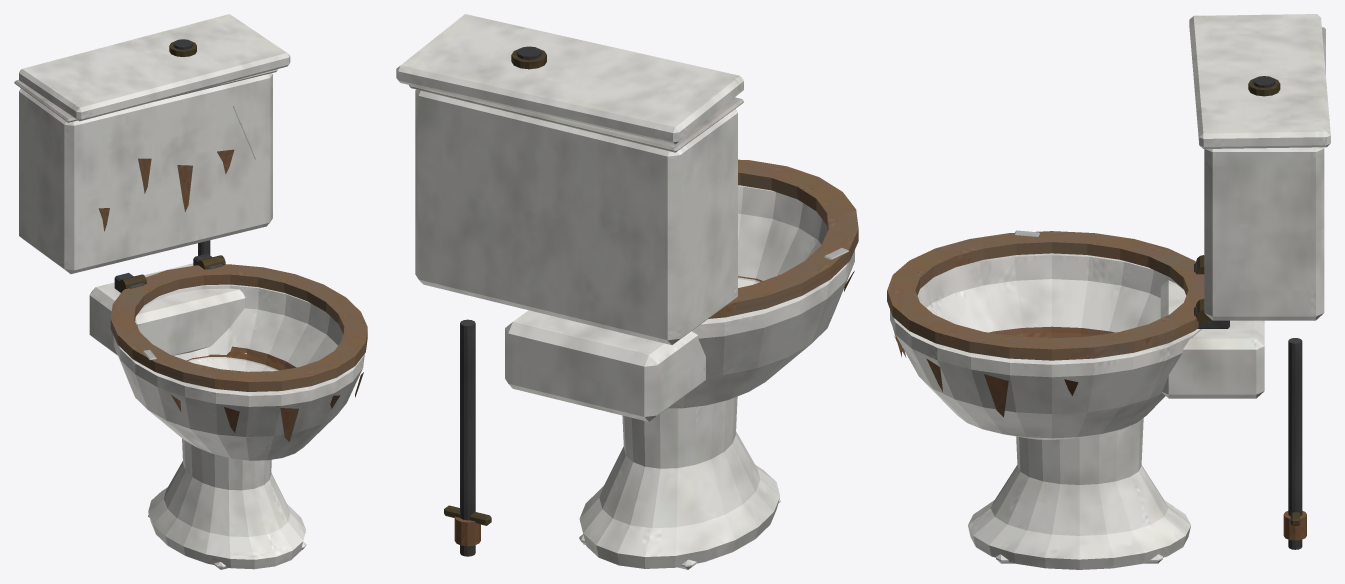
The model's file is B16_toilet_v2.glb.
3 renders of one model, left to right at view 1: azimuth 30°, elevation 25°; view 2: azimuth 150°, elevation 25°; view 3: azimuth 270°, elevation 25°, orthographic. The views are drawn at different scales.
Parts seen in each view (by area): view 1: Hollow vitreous bowl; view 2: Hollow vitreous bowl; view 3: Hollow vitreous bowl.
Boxes of the visible parts, x1,y1,x2,y2 form: Hollow vitreous bowl: (14,14,367,569); Hollow vitreous bowl: (396,14,858,569); Hollow vitreous bowl: (887,14,1330,569).
Bounding box in the file's own units: 0.4439 × 0.8 × 0.669.
7 materials, 7 textured.
